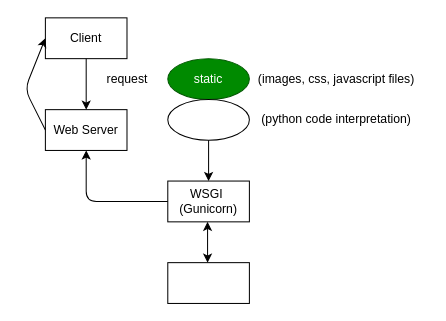
This 446x321 diagram has some shape labels left out. The centre of each missing label's shape, as x and y in pixels:
"Django" goes at [208,282].
"dynamic" goes at [208,119].
